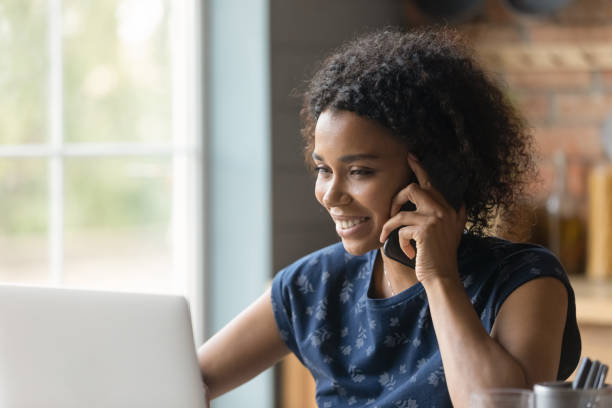without mask: (302, 103, 437, 258)
